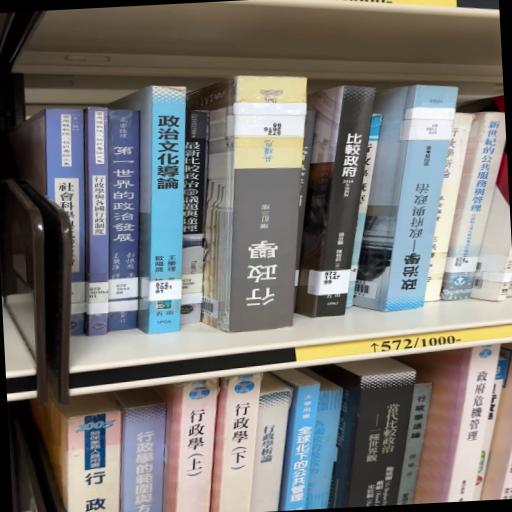reverse: (187, 76, 307, 332), (354, 85, 457, 311)
